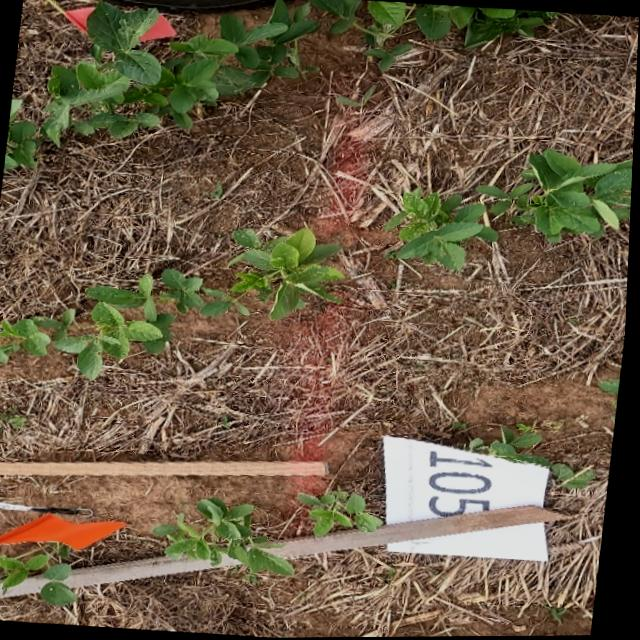soy_plant: (4, 0, 557, 169), (0, 228, 343, 379), (488, 151, 634, 242), (158, 498, 296, 576), (394, 190, 499, 270), (486, 429, 595, 488), (0, 546, 79, 604), (303, 490, 385, 535)
